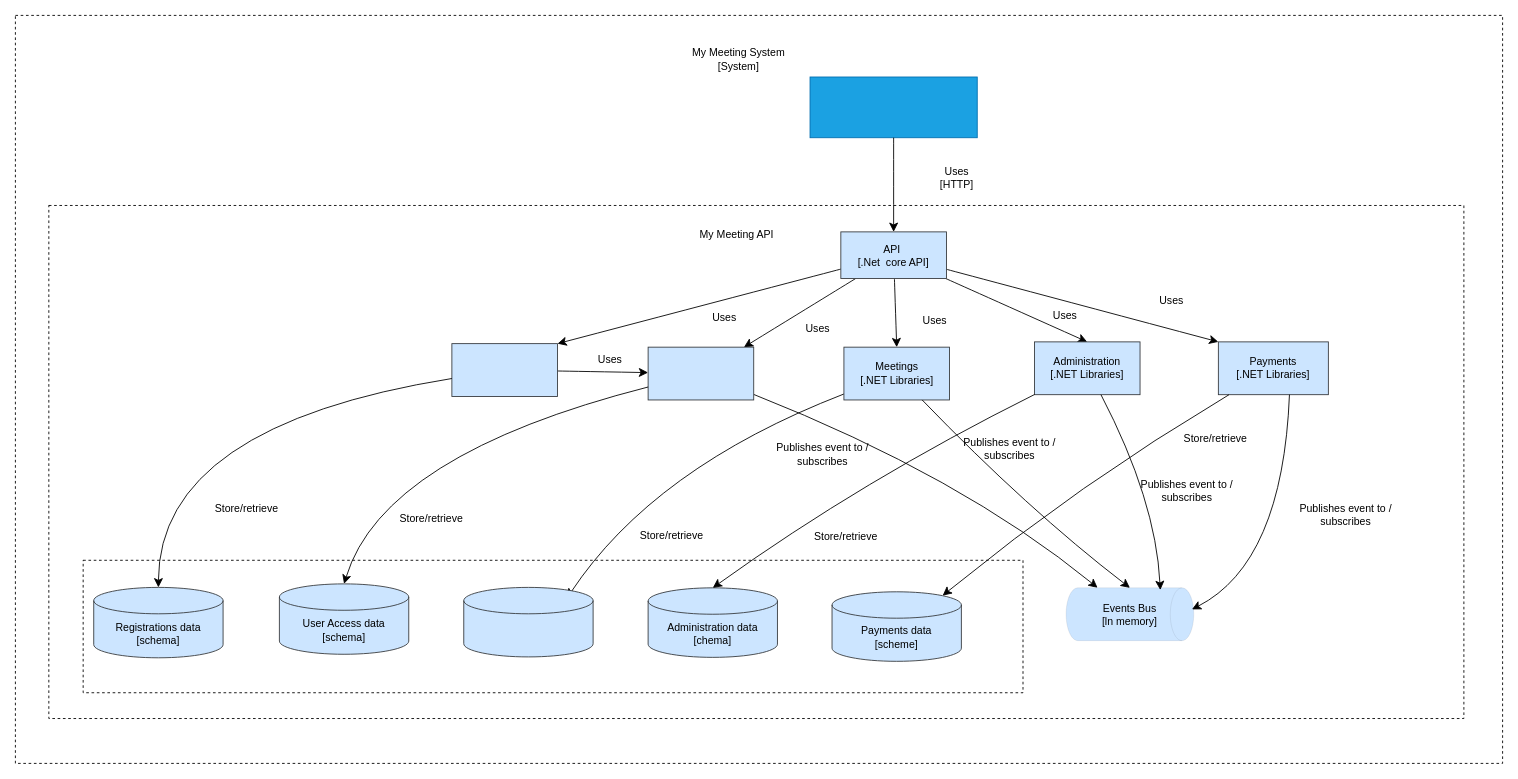
This 1518x779 diagram has some shape labels left out. Here are the shapes that lost their labels. From the top down, the box of each, then its label:
(809, 76, 977, 138): SPA [ReactJS] GUI for the application
(451, 343, 557, 396): Registrations [.NET Libraries]
(647, 346, 754, 400): User Access [.NET Libraries]
(463, 587, 593, 657): Meetings data [schema]
